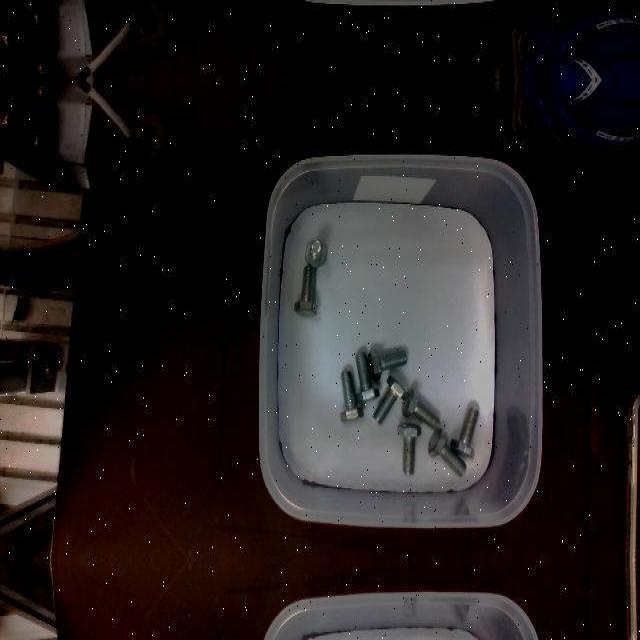screw: (428, 427, 467, 477), (372, 375, 407, 425), (402, 387, 441, 429), (449, 406, 479, 458), (355, 349, 380, 403), (397, 421, 421, 475), (367, 350, 407, 382), (339, 370, 363, 422), (293, 265, 317, 315), (304, 239, 327, 269)
